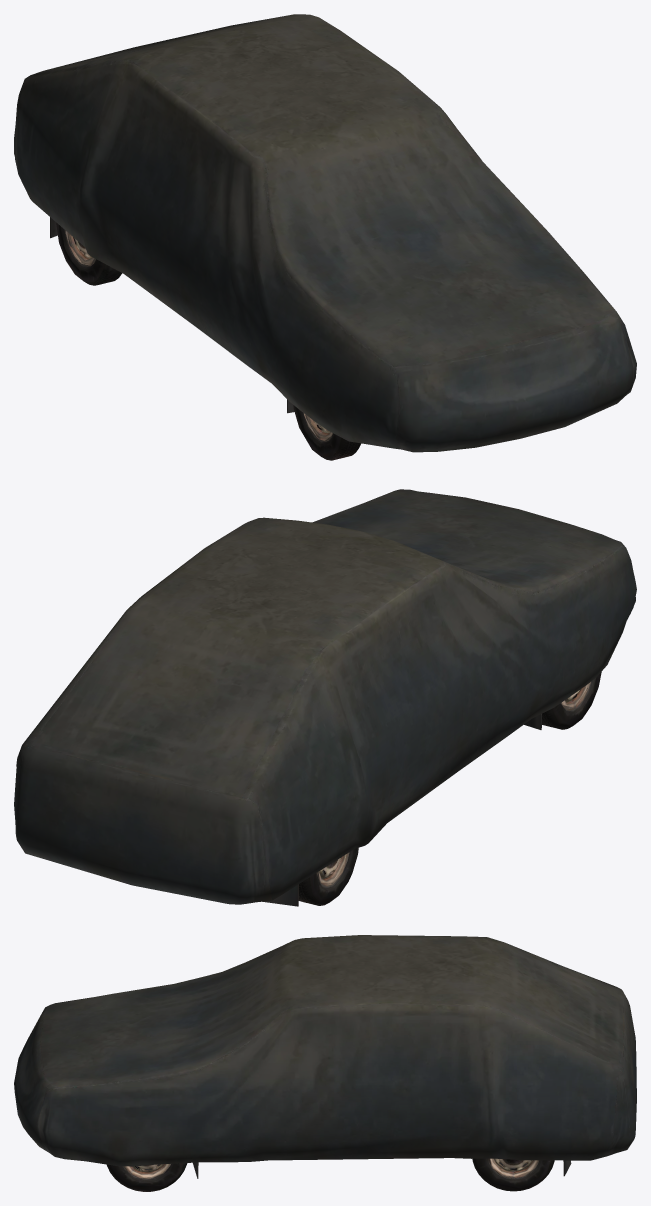
Rendered from covered_car.glb.
3 views of the same model, one above another, from view 1: azimuth 30°, elevation 25°; view 2: azimuth 150°, elevation 25°; view 3: azimuth 270°, elevation 25° (orthographic). The views are drawn at different scales.
Parts seen in each view (by area): view 1: covered_car_wheel_01; view 2: covered_car_wheel_01; view 3: covered_car_wheel_01.
Boxes of the visible parts, x1=… form: covered_car_wheel_01: x1=14, y1=14, x2=636, y2=460; covered_car_wheel_01: x1=14, y1=489, x2=636, y2=906; covered_car_wheel_01: x1=14, y1=935, x2=636, y2=1191.
Size of the model in its own units: 1.79 by 1.4 by 4.38.
1 material, 1 textured.
